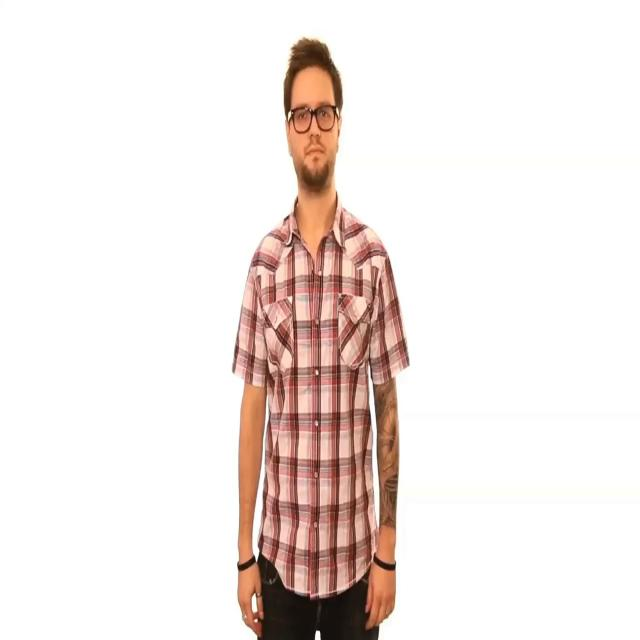shirt: (231, 189, 411, 602)
